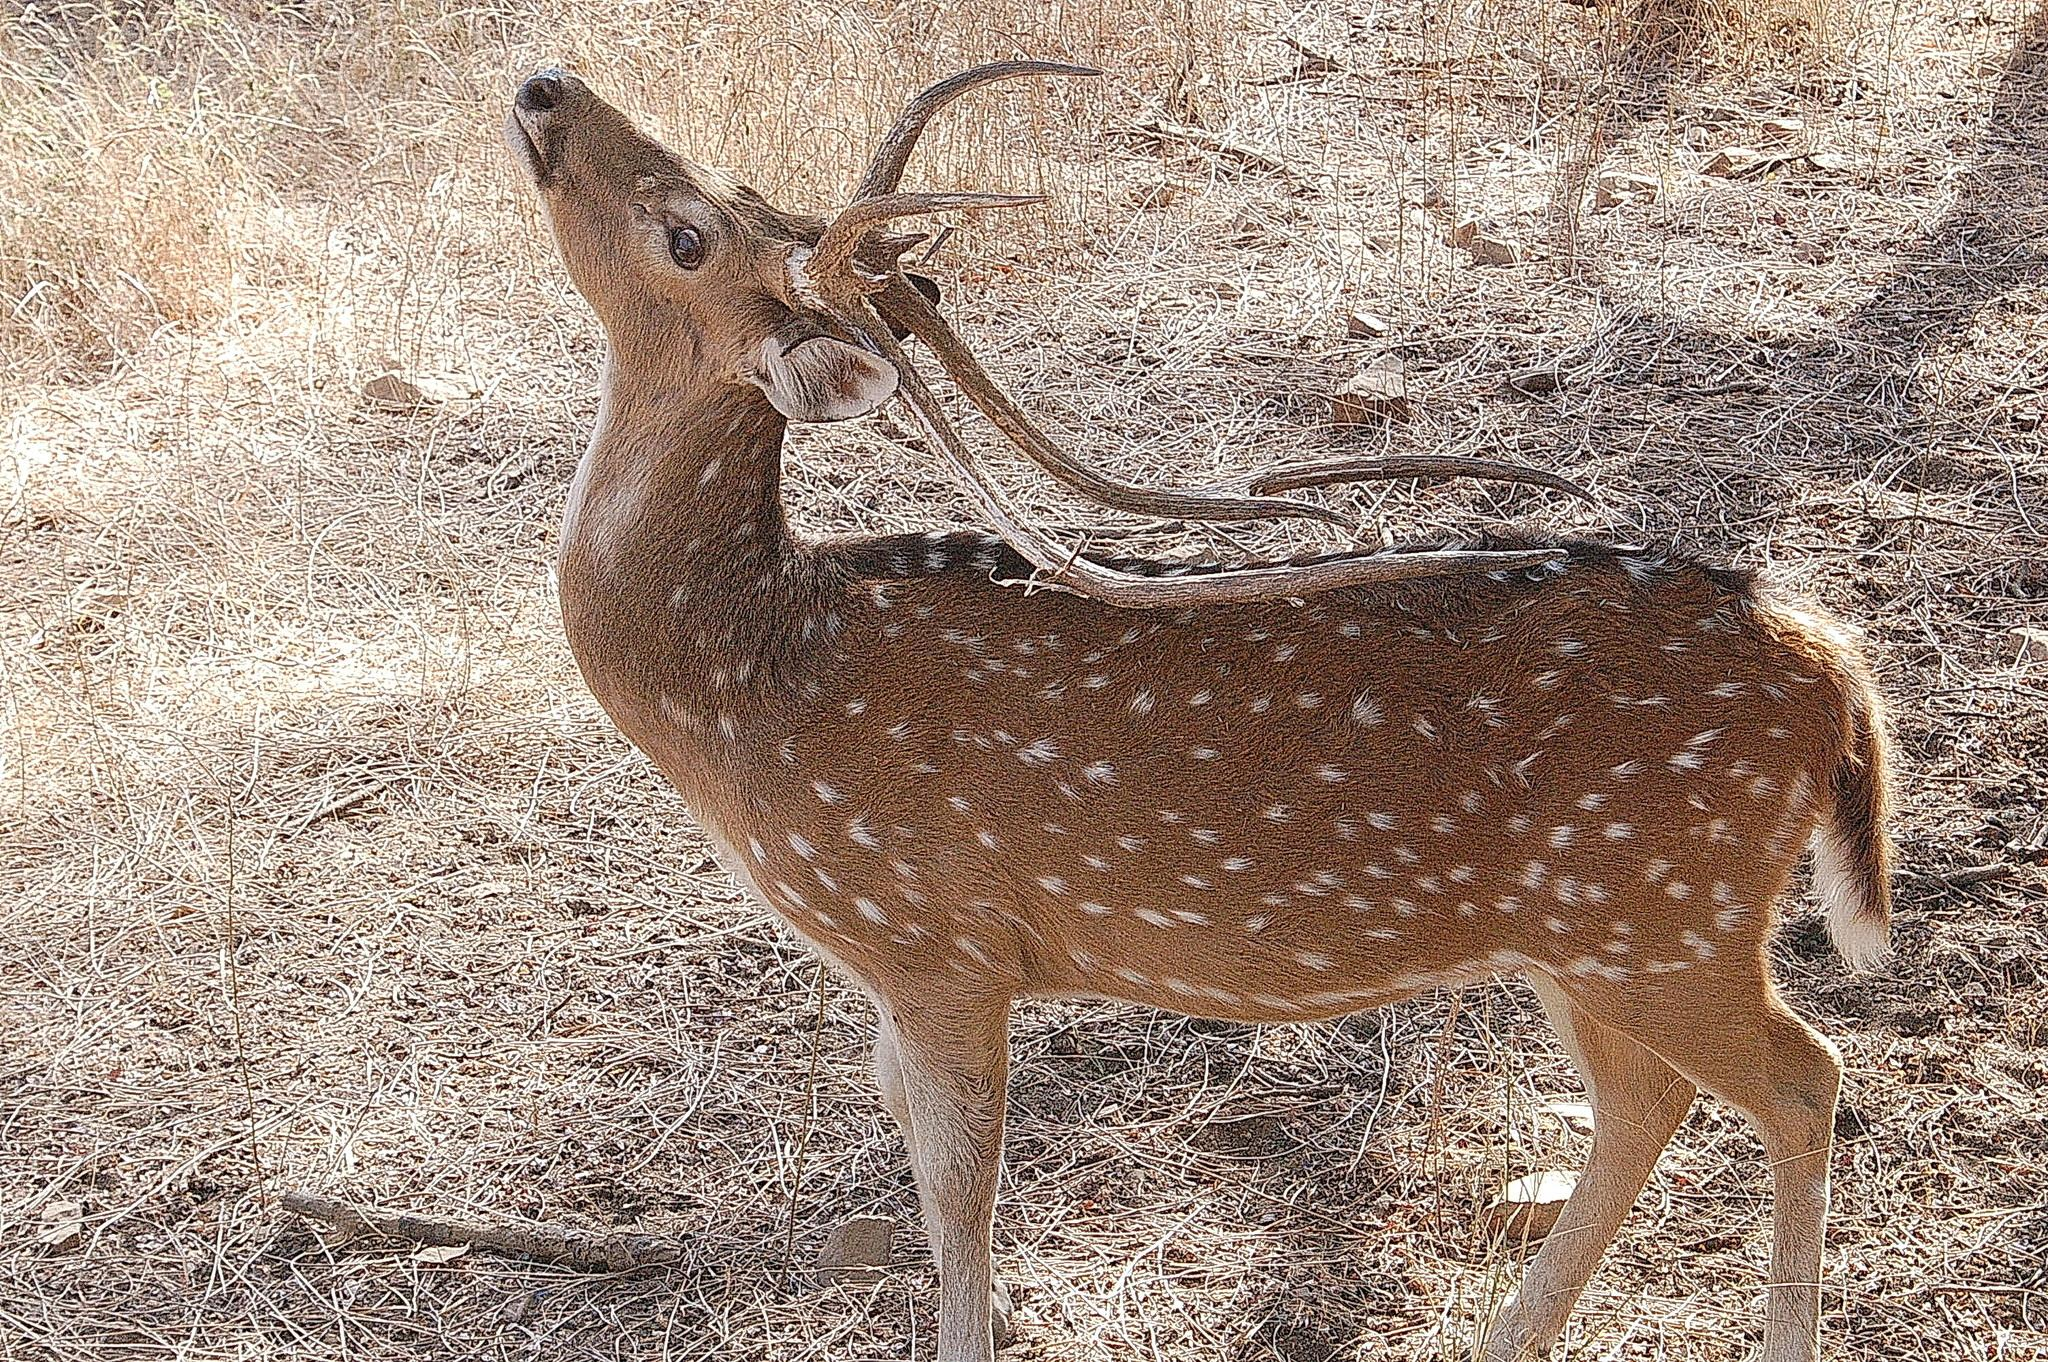Deer: (506, 60, 1889, 1361)
